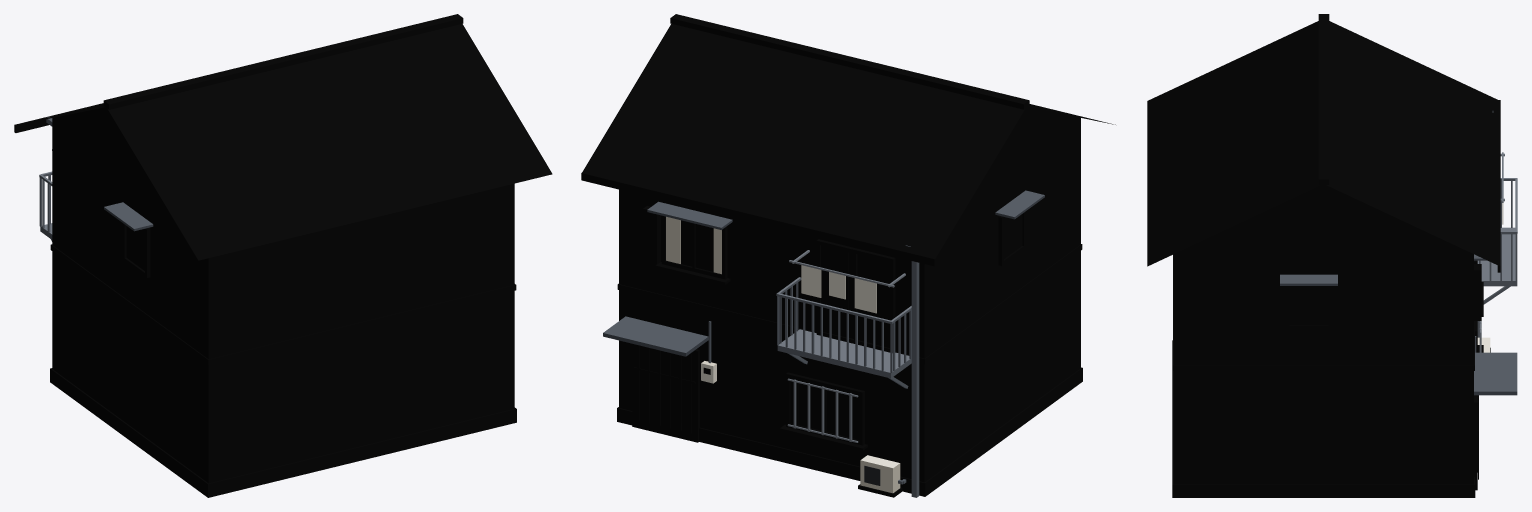
File: House_A.fbx
The picture shows the model from 3 angles, left to right: view 1: azimuth 30°, elevation 25°; view 2: azimuth 150°, elevation 25°; view 3: azimuth 270°, elevation 25°; orthographic projection. The views are drawn at different scales.
Parts seen in each view (by area): view 1: Body, Roof, Footing, Belt, Gables, Hoods, Balcony, Glass, WinFrame; view 2: Body, Roof, Balcony, Glass, WinFrame, Footing, Curtain1, Gables, Pipes, Belt, Hood, Door (+9 smaller); view 3: Body, Roof, Gables, Footing, Balcony, Belt, Hood, Glass, WinFrame, Hoods, Shutterbox.
Part boxes in pixels (<box>): Body: <box>52,118,514,483</box>; Roof: <box>14,14,552,260</box>; Footing: <box>50,368,516,497</box>; Belt: <box>50,244,516,365</box>; Gables: <box>53,107,158,194</box>; Hoods: <box>104,202,153,231</box>; Balcony: <box>39,171,52,241</box>; Glass: <box>126,226,144,270</box>; WinFrame: <box>122,223,150,277</box>; Body: <box>619,117,1080,482</box>; Roof: <box>581,14,1115,266</box>; Balcony: <box>776,277,911,388</box>; Glass: <box>636,214,1022,438</box>; WinFrame: <box>655,211,1025,450</box>; Footing: <box>617,367,1082,496</box>; Curtain1: <box>821,245,889,347</box>; Gables: <box>974,107,1079,194</box>; Pipes: <box>708,245,919,497</box>; Belt: <box>617,244,1082,364</box>; Hood: <box>603,316,708,356</box>; Door: <box>632,344,699,442</box>; Body: <box>1174,243,1473,484</box>; Roof: <box>1147,14,1500,272</box>; Gables: <box>1198,185,1449,242</box>; Footing: <box>1172,340,1475,497</box>; Balcony: <box>1477,178,1517,304</box>; Belt: <box>1173,254,1474,370</box>; Hood: <box>1474,352,1517,395</box>; Glass: <box>1289,286,1478,472</box>; WinFrame: <box>1285,260,1483,352</box>; Hoods: <box>1280,254,1486,285</box>; Shutterbox: <box>1474,264,1481,320</box>.
Size of the model in its own units: 8.1 by 7.5 by 7.66.
